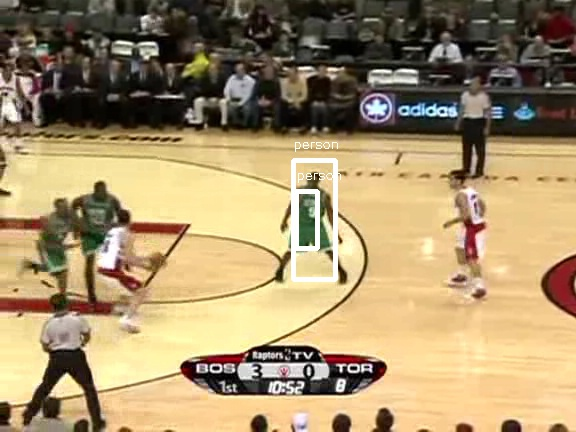person: (296, 182, 330, 263), (295, 182, 329, 263), (297, 182, 331, 263), (296, 181, 330, 262), (296, 183, 330, 264)
target_negative: (277, 188, 420, 430), (1, 407, 302, 425), (85, 369, 303, 387), (129, 412, 325, 425), (99, 422, 375, 426), (255, 378, 257, 417)
